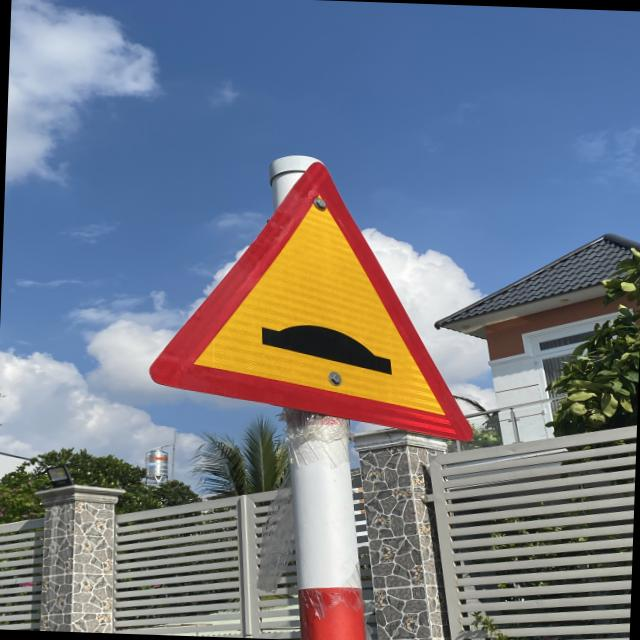Duong_Cong_Ben_Phai: (142, 154, 478, 443)
